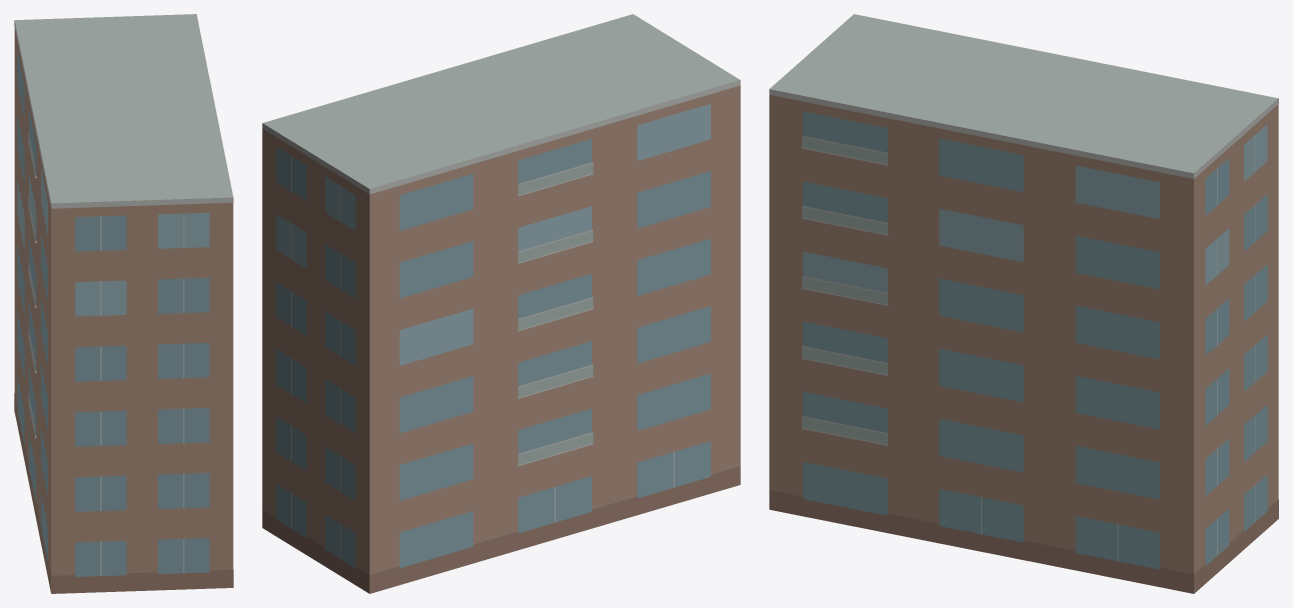
The model's file is survey-upis-32553340.glb.
3 renders of one model, left to right at view 1: azimuth 30°, elevation 25°; view 2: azimuth 150°, elevation 25°; view 3: azimuth 270°, elevation 25°, orthographic. The views are drawn at different scales.
Parts seen in each view (by area): view 1: survey-upis-32553340.tmp; view 2: survey-upis-32553340.tmp; view 3: survey-upis-32553340.tmp.
Part boxes in pixels (bbox=[...]): survey-upis-32553340.tmp: bbox=[14, 14, 233, 593]; survey-upis-32553340.tmp: bbox=[262, 14, 740, 593]; survey-upis-32553340.tmp: bbox=[769, 14, 1278, 593].
Bounding box in the file's own units: 14.89 × 18.3 × 20.11.
